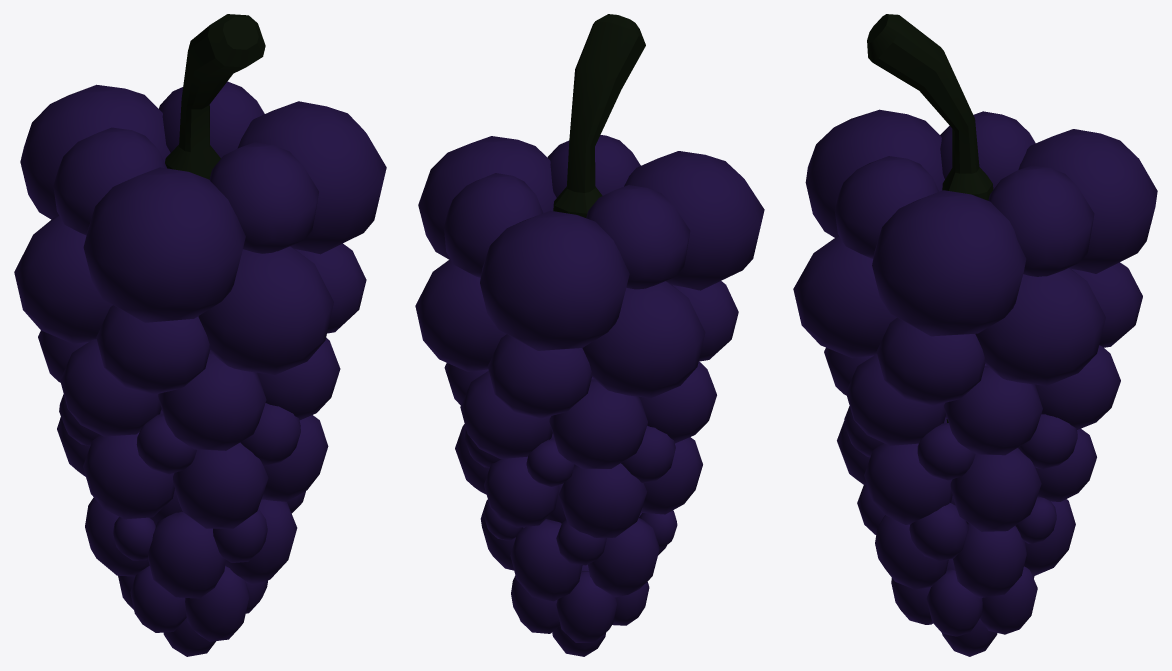
Rendered from Grape_1.FBX.
3 renders of one model, left to right at view 1: azimuth 30°, elevation 25°; view 2: azimuth 150°, elevation 25°; view 3: azimuth 270°, elevation 25°, orthographic. The views are drawn at different scales.
Visible parts, largest first — view 1: Grape_1; view 2: Grape_1; view 3: Grape_1.
Part boxes in pixels (x1=…): Grape_1: x1=14, y1=14, x2=386, y2=656; Grape_1: x1=415, y1=14, x2=764, y2=656; Grape_1: x1=793, y1=14, x2=1157, y2=656.
Size of the model in its own units: 697 by 717 by 1382.
